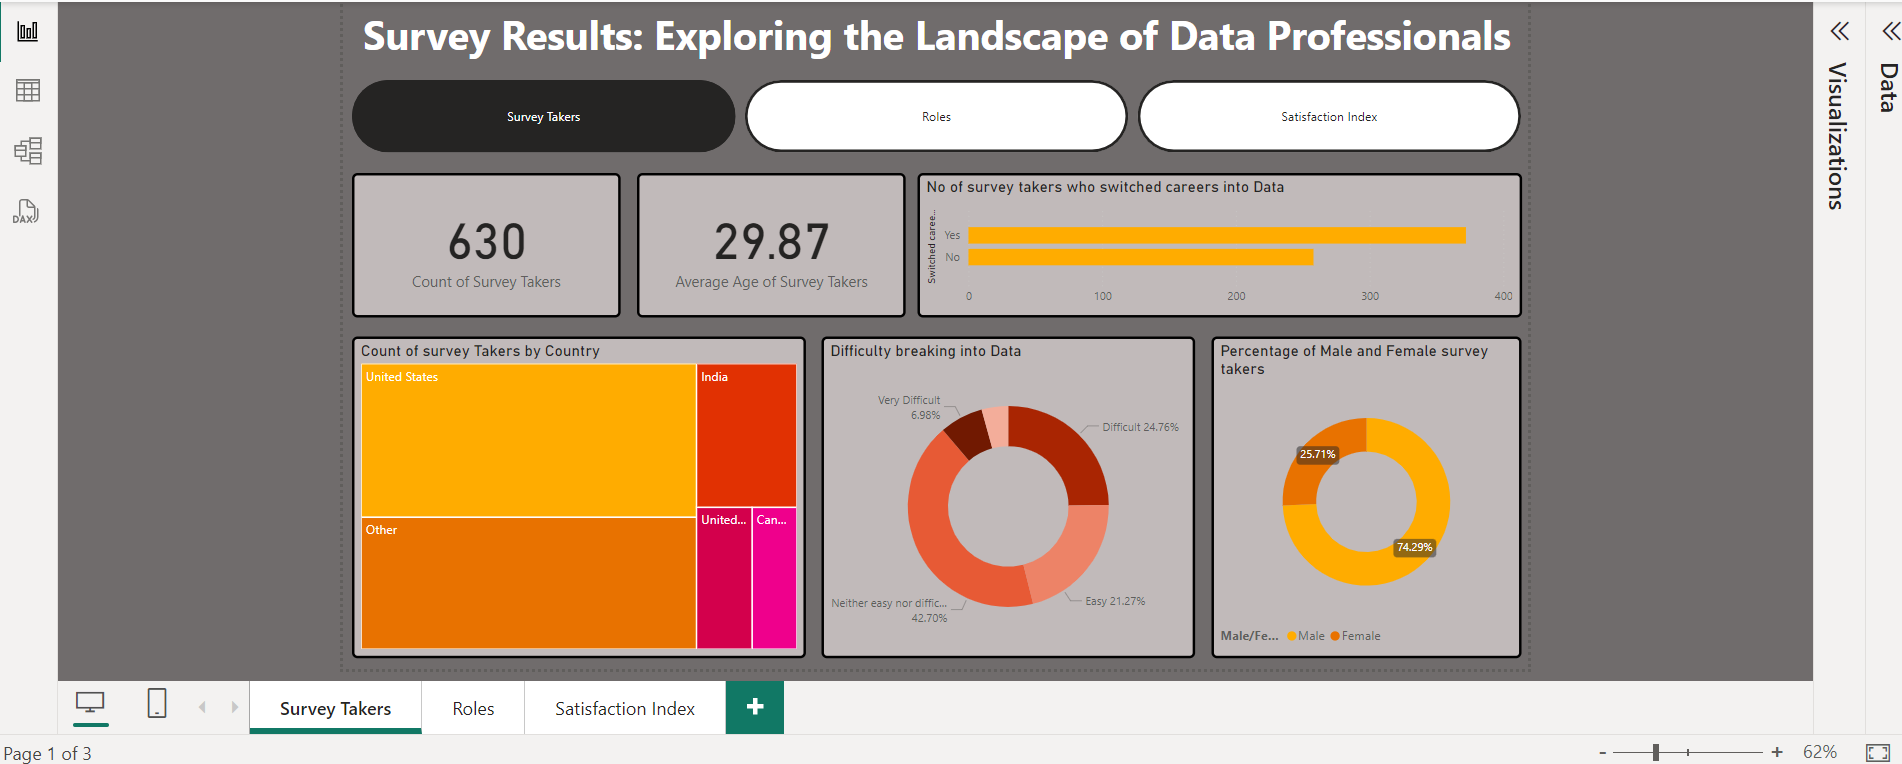

This screenshot's page, from the dashboard's own definition file:
{"tool":"powerbi","page":{"name":"Survey Takers","canvas":[1280,720],"ordinal":0},"visuals":[{"type":"textbox","box":[0,0,1282,83.6],"z":0},{"type":"card","fields":{"Values":["Count(Data Professional Survey.Unique ID)"]},"box":[9.8,185.2,290.2,155.7],"z":1000},{"type":"donutChart","title":"Difficulty breaking into Data","fields":{"Y":["CountNonNull(Data Professional Survey.Unique ID)"],"Series":["Data Professional Survey.Q7 - How difficult was it for you to break into Data?"]},"box":[516.4,360.7,403.3,347.5],"z":2000},{"type":"card","fields":{"Values":["Avg(Data Professional Survey.Q10 - Current Age)"]},"box":[318,185.2,290.2,155.7],"z":3000},{"type":"treemap","fields":{"Group":["Data Professional Survey.Q11 - Which Country do you live in?.1"],"Values":["CountNonNull(Data Professional Survey.Unique ID)"]},"box":[9.8,360.7,490.2,347.5],"z":4000},{"type":"clusteredBarChart","title":"No of survey takers who switched careers into Data","fields":{"Category":["Data Professional Survey.Q2 - Did you switch careers into Data?"],"Y":["CountNonNull(Data Professional Survey.Unique ID)"]},"box":[619.7,185.2,652.5,155.7],"z":5000},{"type":"donutChart","title":"Percentage of Male and Female survey takers","fields":{"Category":["Data Professional Survey.Q9 - Male/Female?"],"Y":["CountNonNull(Data Professional Survey.Unique ID)"]},"box":[937.7,360.7,334.4,347.5],"z":6000},{"type":"bookmarkNavigator","box":[9.8,83.6,1262.3,78.7],"z":7000}]}

Visuals, with their boxes on the page's 1280x720 design canvas (x1, y1, x2, y2). These are canvas units, not pixel positions in the 1902x764 screenshot, which may show the page scaled, cropped or inside an application window:
textbox: [x1=0, y1=0, x2=1282, y2=84]
card - Count(Data Professional Survey.Unique ID): [x1=10, y1=185, x2=300, y2=341]
"Difficulty breaking into Data" donutChart: [x1=516, y1=361, x2=920, y2=708]
card - Avg(Data Professional Survey.Q10 - Current Age): [x1=318, y1=185, x2=608, y2=341]
treemap - Data Professional Survey.Q11 - Which Country do you live in?.1 x CountNonNull(Data Professional Survey.Unique ID): [x1=10, y1=361, x2=500, y2=708]
"No of survey takers who switched careers into Data" clusteredBarChart: [x1=620, y1=185, x2=1272, y2=341]
"Percentage of Male and Female survey takers" donutChart: [x1=938, y1=361, x2=1272, y2=708]
bookmarkNavigator: [x1=10, y1=84, x2=1272, y2=162]
